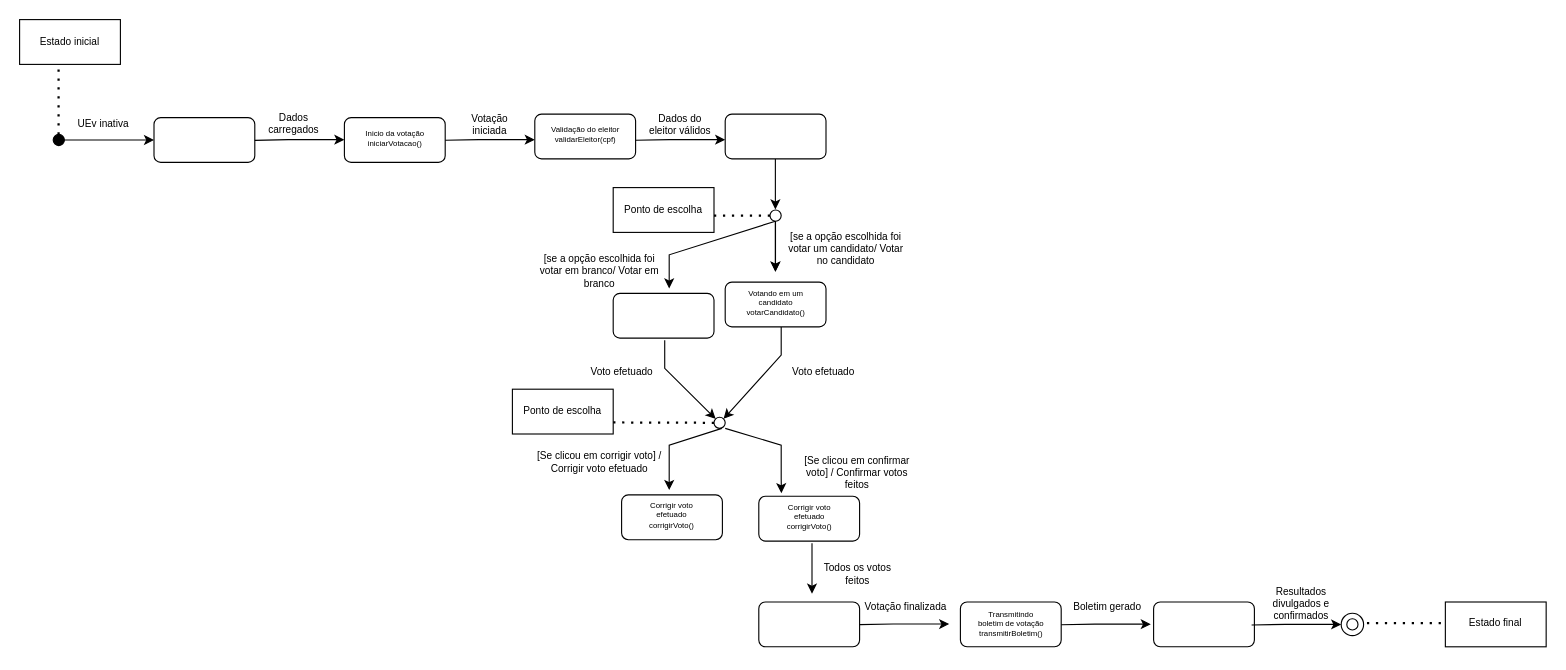
The diagram is 1566 pixels wide and 670 high, and some of its shapes have lost their labels. Here are the shapes that lost their labels. From the top down, the box of each, then its label:
(153, 116, 255, 162): Recebendo dados receberCargaDeDados(dados)
(724, 113, 826, 159): Recebendo dígitos inseridos receberDigitos(digitos)
(612, 292, 714, 338): Votando em branco votarEmBranco()
(758, 601, 860, 647): Encerrando votação encerrarVotacao()
(1152, 601, 1254, 647): Enviado boletim e confirmação de finalização enviarConfirmacao(status)
